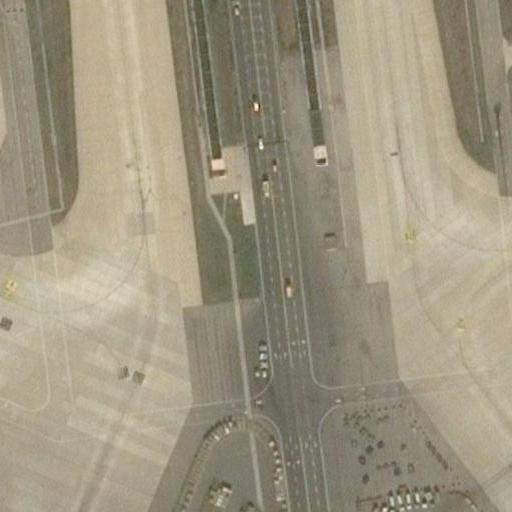Aircraft: (508, 429, 512, 512)
